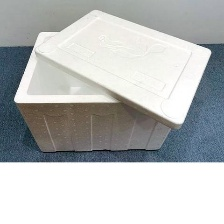foam_box: (9, 4, 214, 156), (30, 5, 214, 132)
